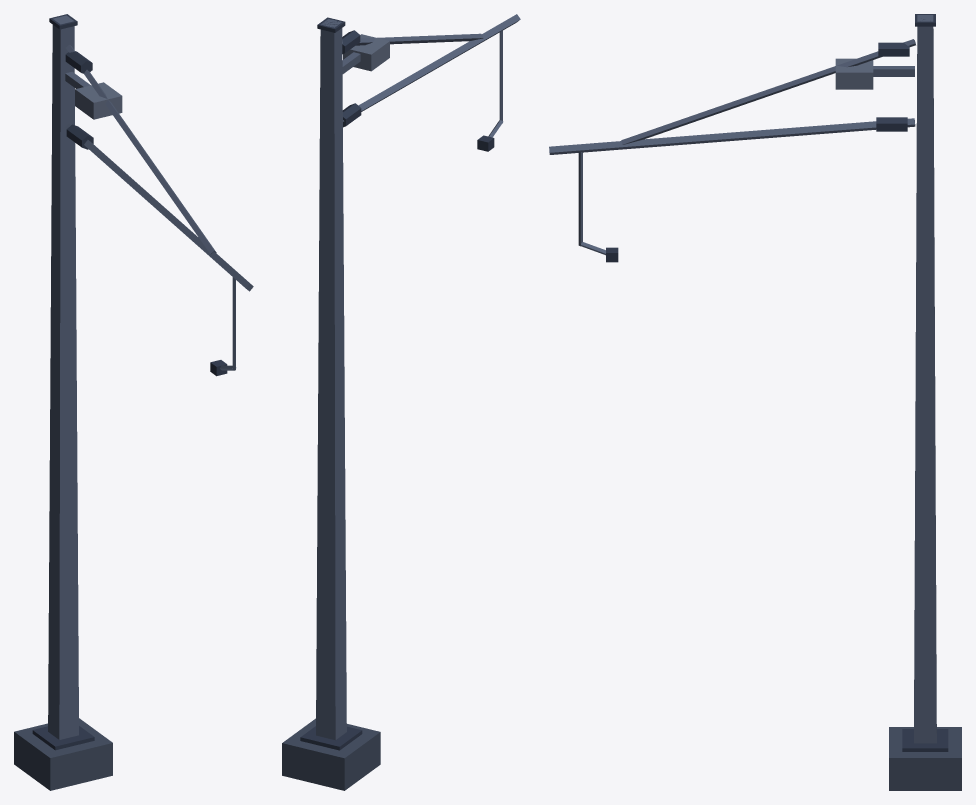
The model's file is rail_catenary_mast.glb.
The picture shows the model from 3 angles, left to right: view 1: azimuth 30°, elevation 25°; view 2: azimuth 150°, elevation 25°; view 3: azimuth 270°, elevation 25°; orthographic projection.
Visible parts, largest first — view 1: mast, foundation, insulator, lamp_housing; view 2: mast, foundation, insulator, lamp_housing; view 3: mast, foundation, insulator, lamp_housing.
Boxes of the visible parts, x1,y1,x2,y2 form: mast: (48,15,253,739); foundation: (14,718,112,790); insulator: (32,14,227,750); lamp_housing: (75,82,122,119); mast: (316,14,520,740); foundation: (282,718,380,790); insulator: (300,17,494,750); lamp_housing: (343,34,389,71); mast: (549,15,936,743); foundation: (889,727,961,790); insulator: (606,14,948,751); lamp_housing: (835,58,873,89).
Size of the model in its own units: 0.7 by 8 by 3.95.
